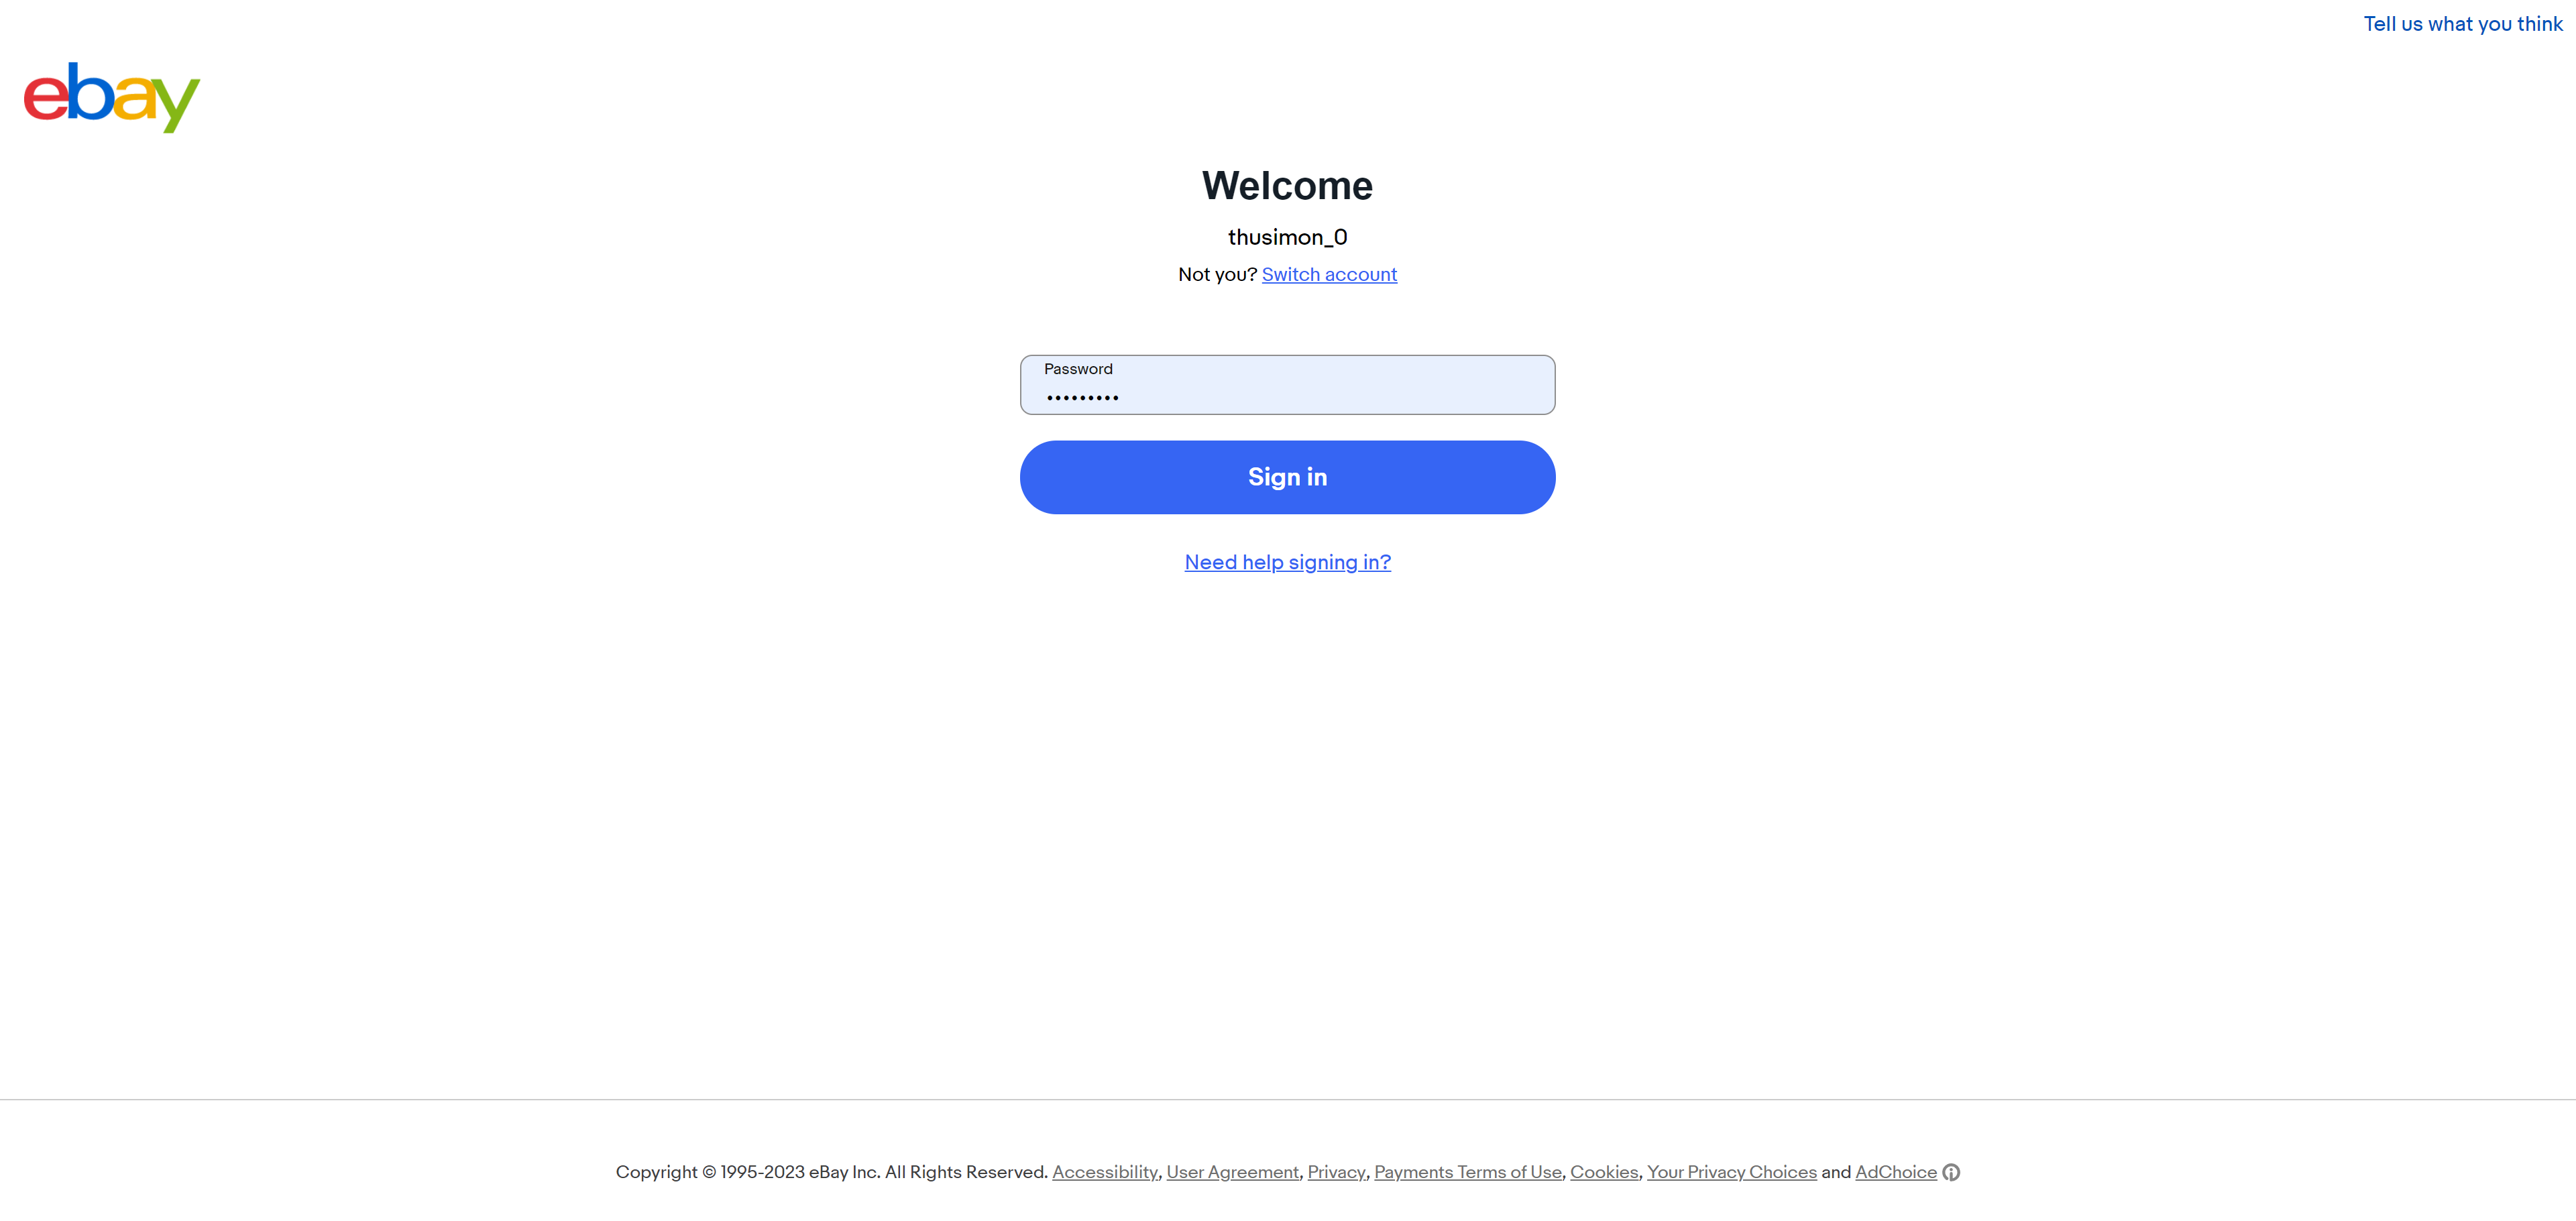login_button: (1020, 440, 1556, 514)
login_form: (1014, 348, 1562, 521)
